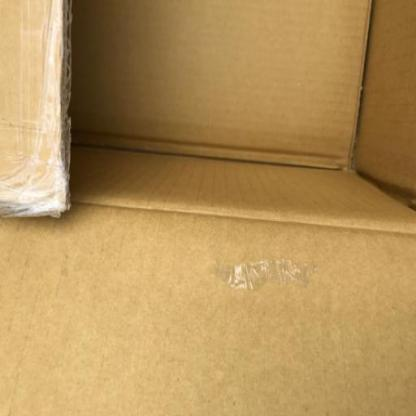CARDBOARD: (0, 0, 415, 415), (67, 0, 371, 170)
